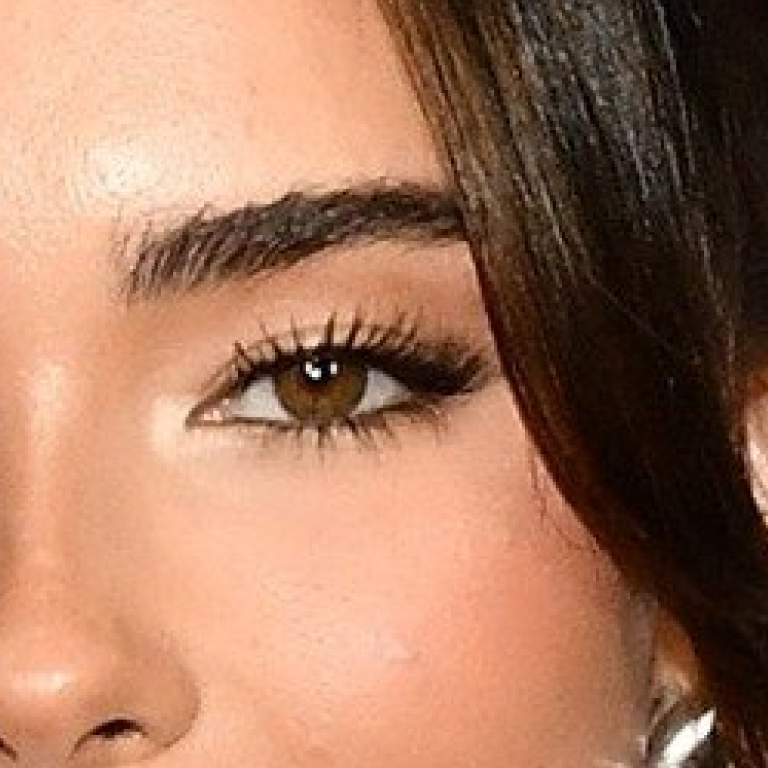iris: (274, 360, 368, 419)
pupil: (300, 357, 342, 393)
sclera: (225, 374, 296, 421), (351, 365, 413, 414)
